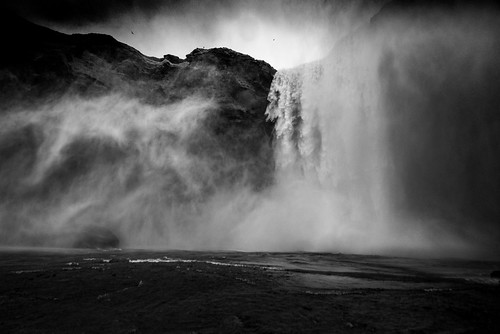waterfall: (211, 23, 433, 245)
